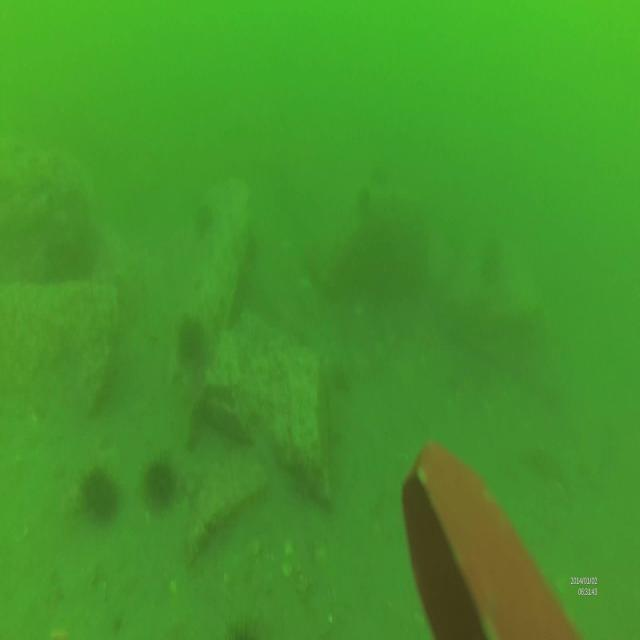echinus: (76, 462, 120, 522), (140, 455, 174, 508), (175, 314, 203, 364)
